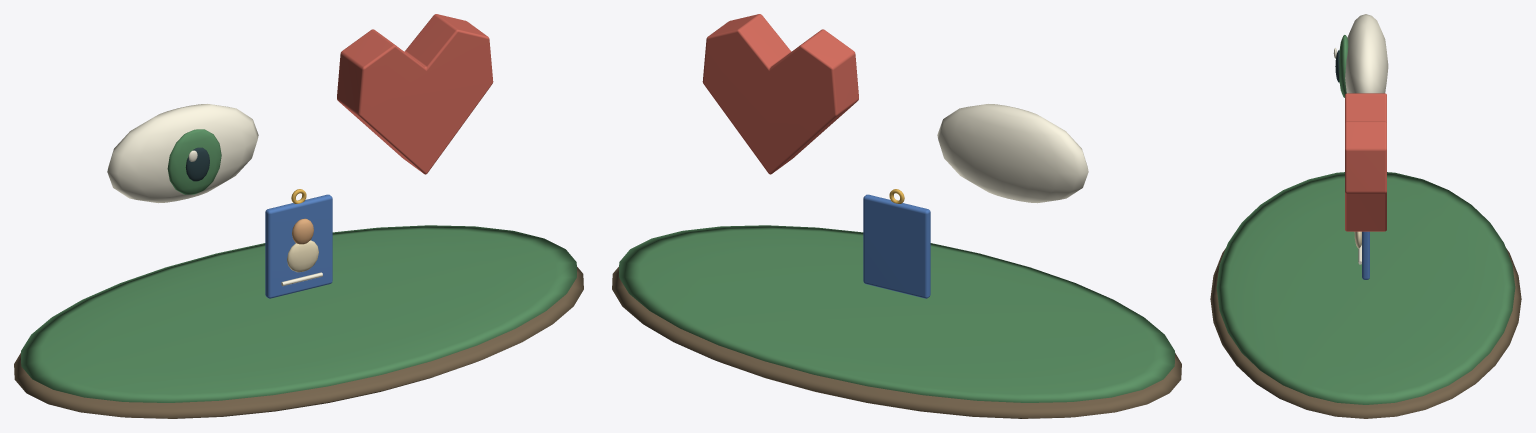
The model's file is complete-first-consider-recognition.glb.
3 views of the same model, side by side, from view 1: azimuth 30°, elevation 25°; view 2: azimuth 150°, elevation 25°; view 3: azimuth 270°, elevation 25° (orthographic). The views are drawn at different scales.
Parts seen in each view (by area): view 1: complete-first-consider-recognition_surface_01, complete-first-consider-recognition_surface_04, complete-first-consider-recognition_surface_00, complete-first-consider-recognition_surface_02, complete-first-consider-recognition_surface_05, complete-first-consider-recognition_surface_07, complete-first-consider-recognition_surface_03; view 2: complete-first-consider-recognition_surface_01, complete-first-consider-recognition_surface_04, complete-first-consider-recognition_surface_02, complete-first-consider-recognition_surface_00, complete-first-consider-recognition_surface_05; view 3: complete-first-consider-recognition_surface_01, complete-first-consider-recognition_surface_04, complete-first-consider-recognition_surface_00, complete-first-consider-recognition_surface_02, complete-first-consider-recognition_surface_05.
Boxes of the visible parts, <box> form: complete-first-consider-recognition_surface_01: <box>21,129,576,402</box>; complete-first-consider-recognition_surface_04: <box>337,14,493,174</box>; complete-first-consider-recognition_surface_00: <box>14,267,583,418</box>; complete-first-consider-recognition_surface_02: <box>107,104,322,285</box>; complete-first-consider-recognition_surface_05: <box>265,194,332,298</box>; complete-first-consider-recognition_surface_07: <box>287,240,318,272</box>; complete-first-consider-recognition_surface_03: <box>185,147,209,181</box>; complete-first-consider-recognition_surface_01: <box>619,225,1174,402</box>; complete-first-consider-recognition_surface_04: <box>702,14,858,174</box>; complete-first-consider-recognition_surface_02: <box>937,104,1088,203</box>; complete-first-consider-recognition_surface_00: <box>612,267,1181,418</box>; complete-first-consider-recognition_surface_05: <box>863,194,930,298</box>; complete-first-consider-recognition_surface_01: <box>1216,35,1515,404</box>; complete-first-consider-recognition_surface_04: <box>1345,93,1386,231</box>; complete-first-consider-recognition_surface_00: <box>1210,248,1521,418</box>; complete-first-consider-recognition_surface_02: <box>1333,14,1388,264</box>; complete-first-consider-recognition_surface_05: <box>1362,231,1369,279</box>.
Bounding box in the file's own units: 4.56 × 2.28 × 2.5.
